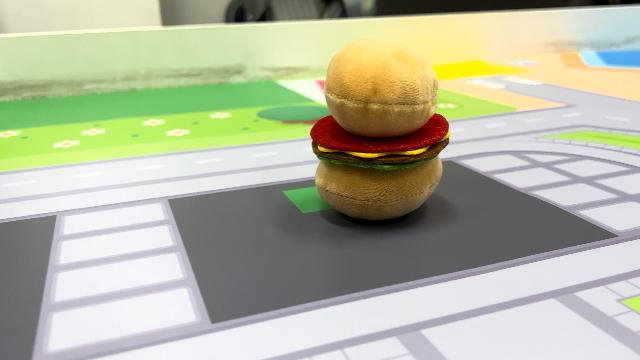burger: (306, 35, 454, 222)
